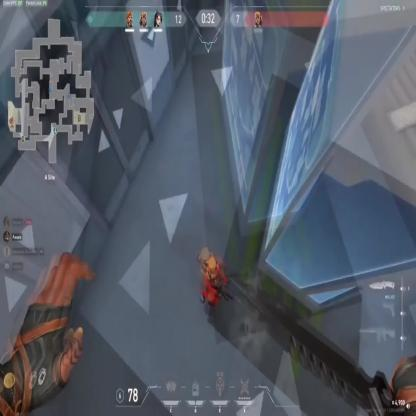enemy: (198, 250, 230, 312)
enemy_head: (206, 256, 216, 272)
